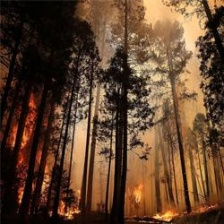fire: (7, 106, 81, 222), (129, 184, 220, 224)
